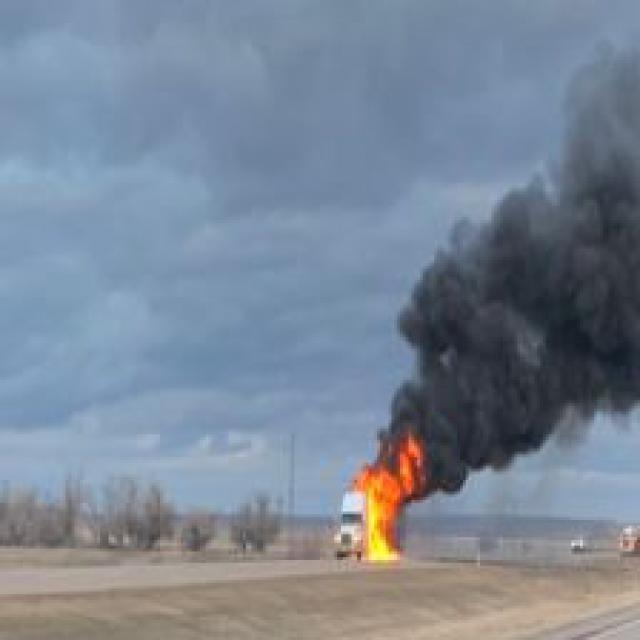fire: (346, 423, 440, 566)
